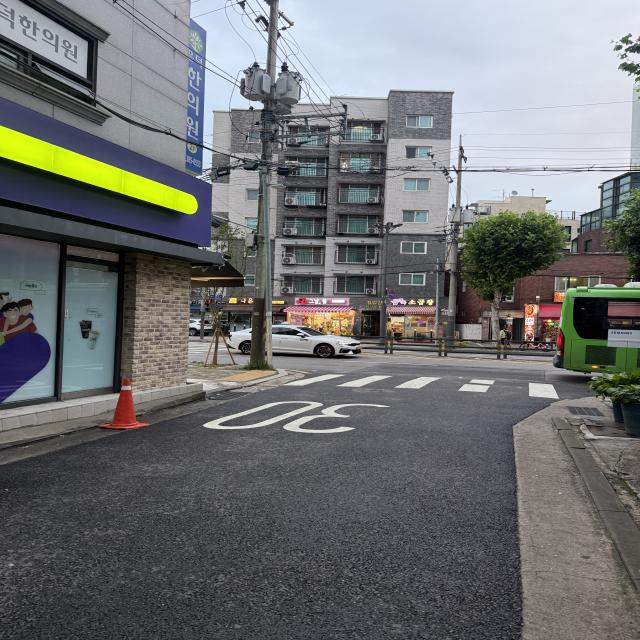car: (551, 274, 640, 384), (220, 316, 377, 365)
